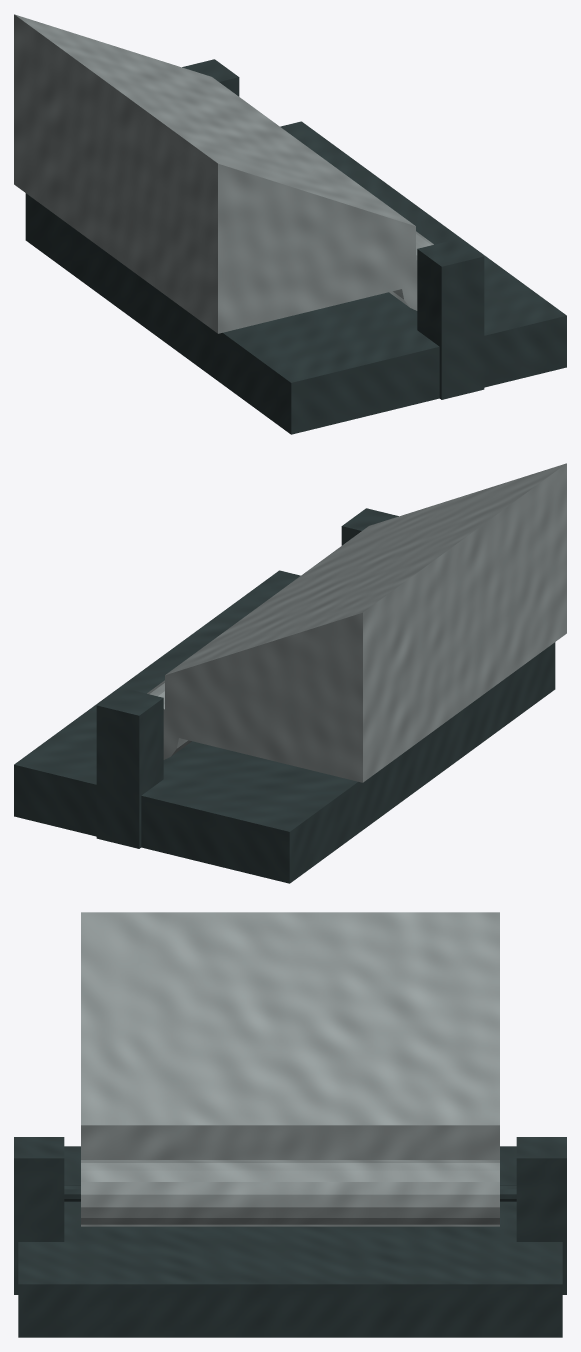
3 views of the same model, one above another, from view 1: azimuth 30°, elevation 25°; view 2: azimuth 150°, elevation 25°; view 3: azimuth 270°, elevation 25° (orthographic). The views are drawn at different scales.
Visible parts, largest first — view 1: B026-06_moving_wedge_steel, B026-06_mount_iron; view 2: B026-06_moving_wedge_steel, B026-06_mount_iron; view 3: B026-06_moving_wedge_steel, B026-06_mount_iron, B026-06_frame_iron.
Boxes of the visible parts, x1,y1,x2,y2 form: B026-06_moving_wedge_steel: [14, 14, 433, 333]; B026-06_mount_iron: [25, 59, 566, 434]; B026-06_moving_wedge_steel: [147, 463, 566, 782]; B026-06_mount_iron: [14, 508, 555, 883]; B026-06_moving_wedge_steel: [81, 912, 499, 1226]; B026-06_mount_iron: [14, 1137, 566, 1337]; B026-06_frame_iron: [64, 1185, 516, 1201].
Size of the model in its own units: 0.45 by 0.35 by 0.66.
Materials: 2 (2 with a texture image).
